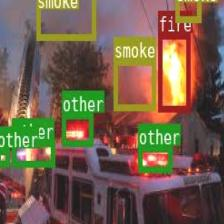fire: (158, 31, 190, 110)
smoke: (35, 0, 94, 38), (113, 58, 155, 109), (174, 0, 200, 21)
